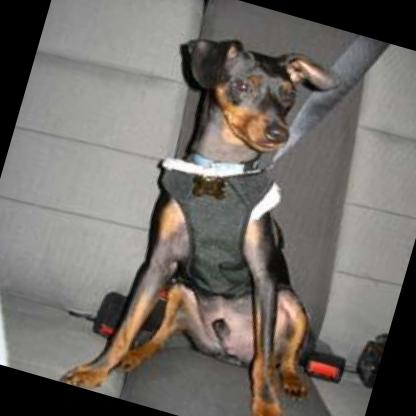miniature_pinscher: (56, 11, 394, 416)
